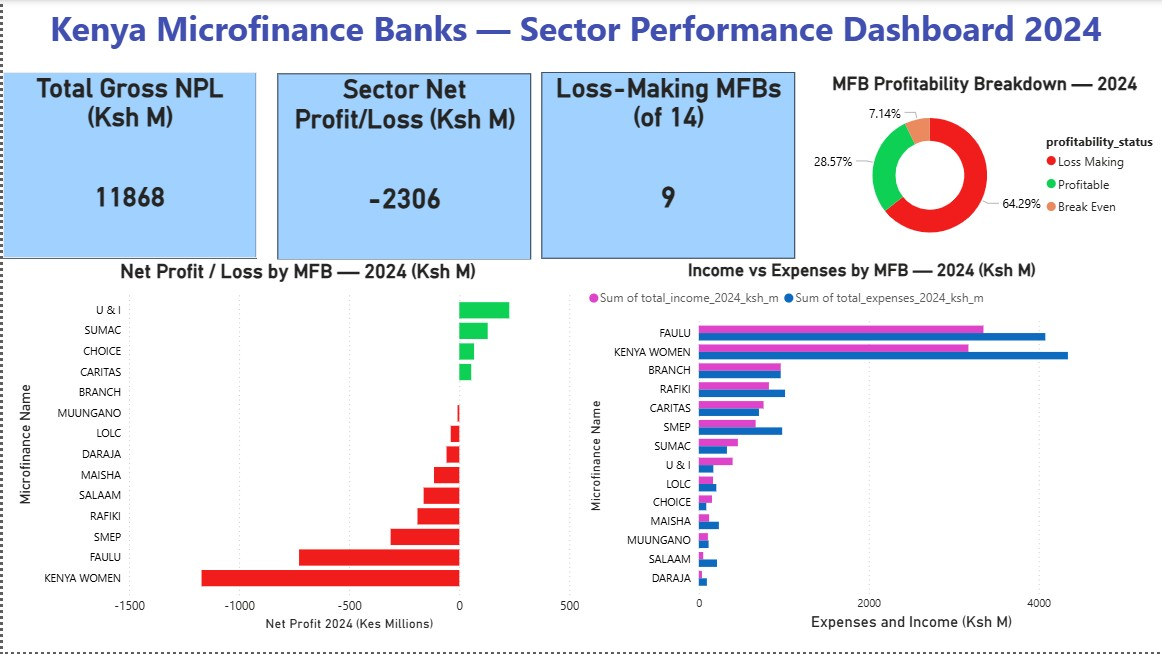

What the dashboard file says about the page in this screenshot:
{"tool":"powerbi","page":{"name":"Sector Overview","canvas":[1280,720],"ordinal":0},"visuals":[{"type":"card","title":"Total Gross NPL (Ksh M)","fields":{"Values":["Sum(kenya_mfb_2024 vw_mfb_dashboard.gross_npl_ksh_m)"]},"box":[0,79.4,279.7,206],"z":0},{"type":"card","title":"Sector Net Profit/Loss (Ksh M)","fields":{"Values":["Sum(kenya_mfb_2024 vw_mfb_dashboard.net_profit_2024_ksh_m)"]},"box":[302.4,81.3,279.7,206],"z":1000},{"type":"donutChart","title":"MFB Profitability Breakdown — 2024","fields":{"Category":["kenya_mfb_2024 vw_mfb_dashboard.profitability_status"],"Y":["CountNonNull(kenya_mfb_2024 vw_mfb_dashboard.mfb_name)"]},"box":[890.1,79.4,389.3,204.1],"z":2000},{"type":"card","title":" Loss-Making MFBs (of 14)","fields":{"Values":["kenya_mfb_2024 vw_mfb_dashboard.Loss Making MFBs"]},"box":[595.3,79.4,279.7,206],"z":3000},{"type":"textbox","box":[9.4,0,1245.4,60.5],"z":4000},{"type":"clusteredBarChart","title":"Net Profit / Loss by MFB — 2024 (Ksh M)","fields":{"Category":["kenya_mfb_2024 vw_mfb_dashboard.mfb_name"],"Y":["Sum(kenya_mfb_2024 vw_mfb_dashboard.net_profit_2024_ksh_m)"]},"box":[9.4,287.2,631.2,413.9],"z":5000},{"type":"clusteredBarChart","title":"Income vs Expenses by MFB — 2024 (Ksh M)","fields":{"Category":["kenya_mfb_2024 vw_mfb_dashboard.mfb_name"],"Y":["Sum(kenya_mfb_2024 vw_mfb_dashboard.total_income_2024_ksh_m)","Sum(kenya_mfb_2024 vw_mfb_dashboard.total_expenses_2024_ksh_m)"]},"box":[640.6,287.2,614.2,413.9],"z":6000}]}

Visuals, with their boxes in screenshot pixels (x1, y1, x2, y2), scaled from the page's 1280x720 canvas onto the 1162x654 screenshot:
"Total Gross NPL (Ksh M)" card: 0,72,254,259
"Sector Net Profit/Loss (Ksh M)" card: 275,74,528,261
"MFB Profitability Breakdown — 2024" donutChart: 808,72,1161,258
" Loss-Making MFBs (of 14)" card: 540,72,794,259
textbox: 9,0,1139,55
"Net Profit / Loss by MFB — 2024 (Ksh M)" clusteredBarChart: 9,261,582,637
"Income vs Expenses by MFB — 2024 (Ksh M)" clusteredBarChart: 582,261,1139,637
